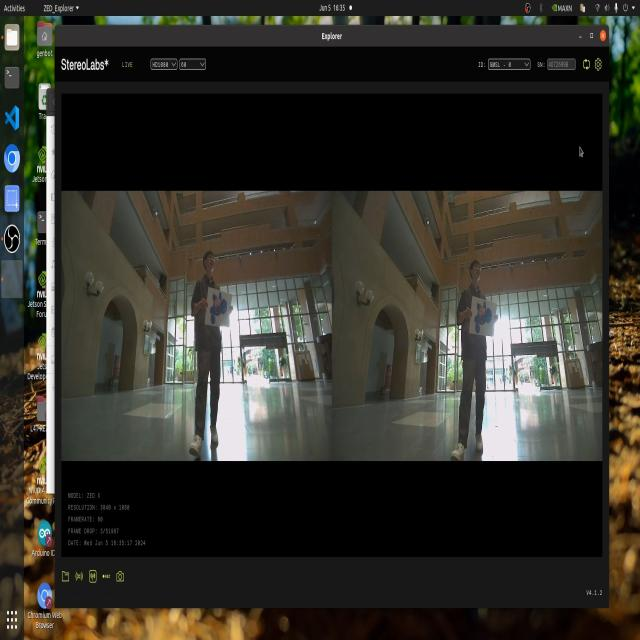blue: (462, 292, 497, 341), (203, 281, 230, 329)
